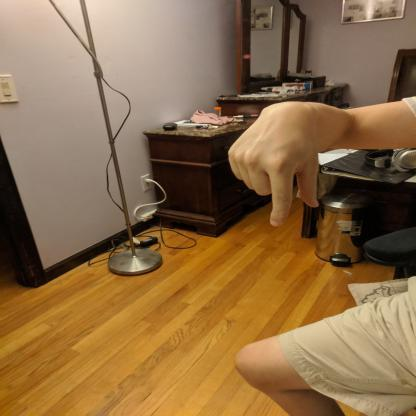Q: (224, 98, 323, 230)
